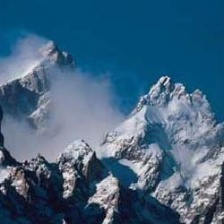neutral: (5, 5, 224, 220)
